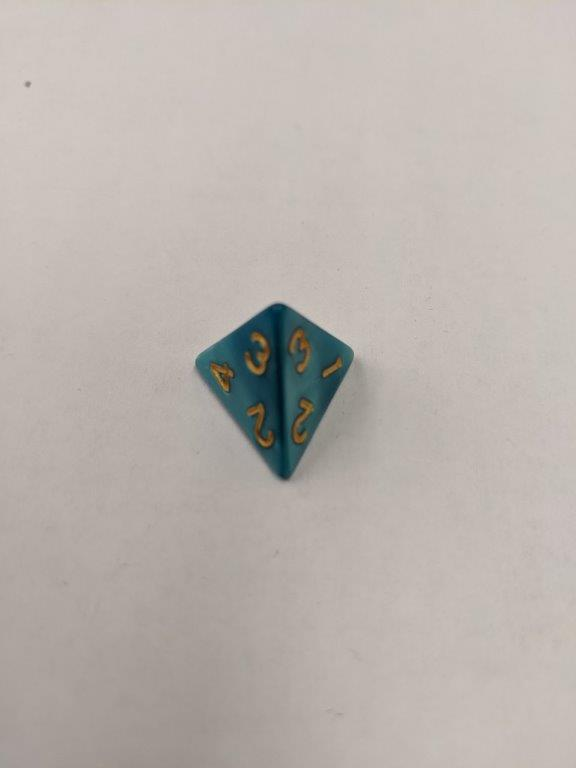d4-3: (190, 297, 358, 486)
